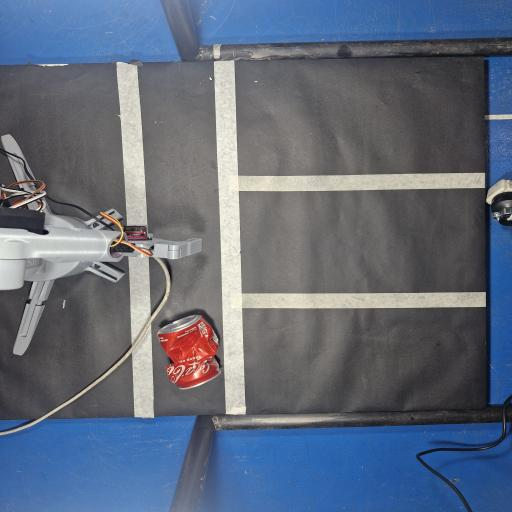lata_defectuoso: (157, 315, 220, 389), (158, 316, 220, 389)
